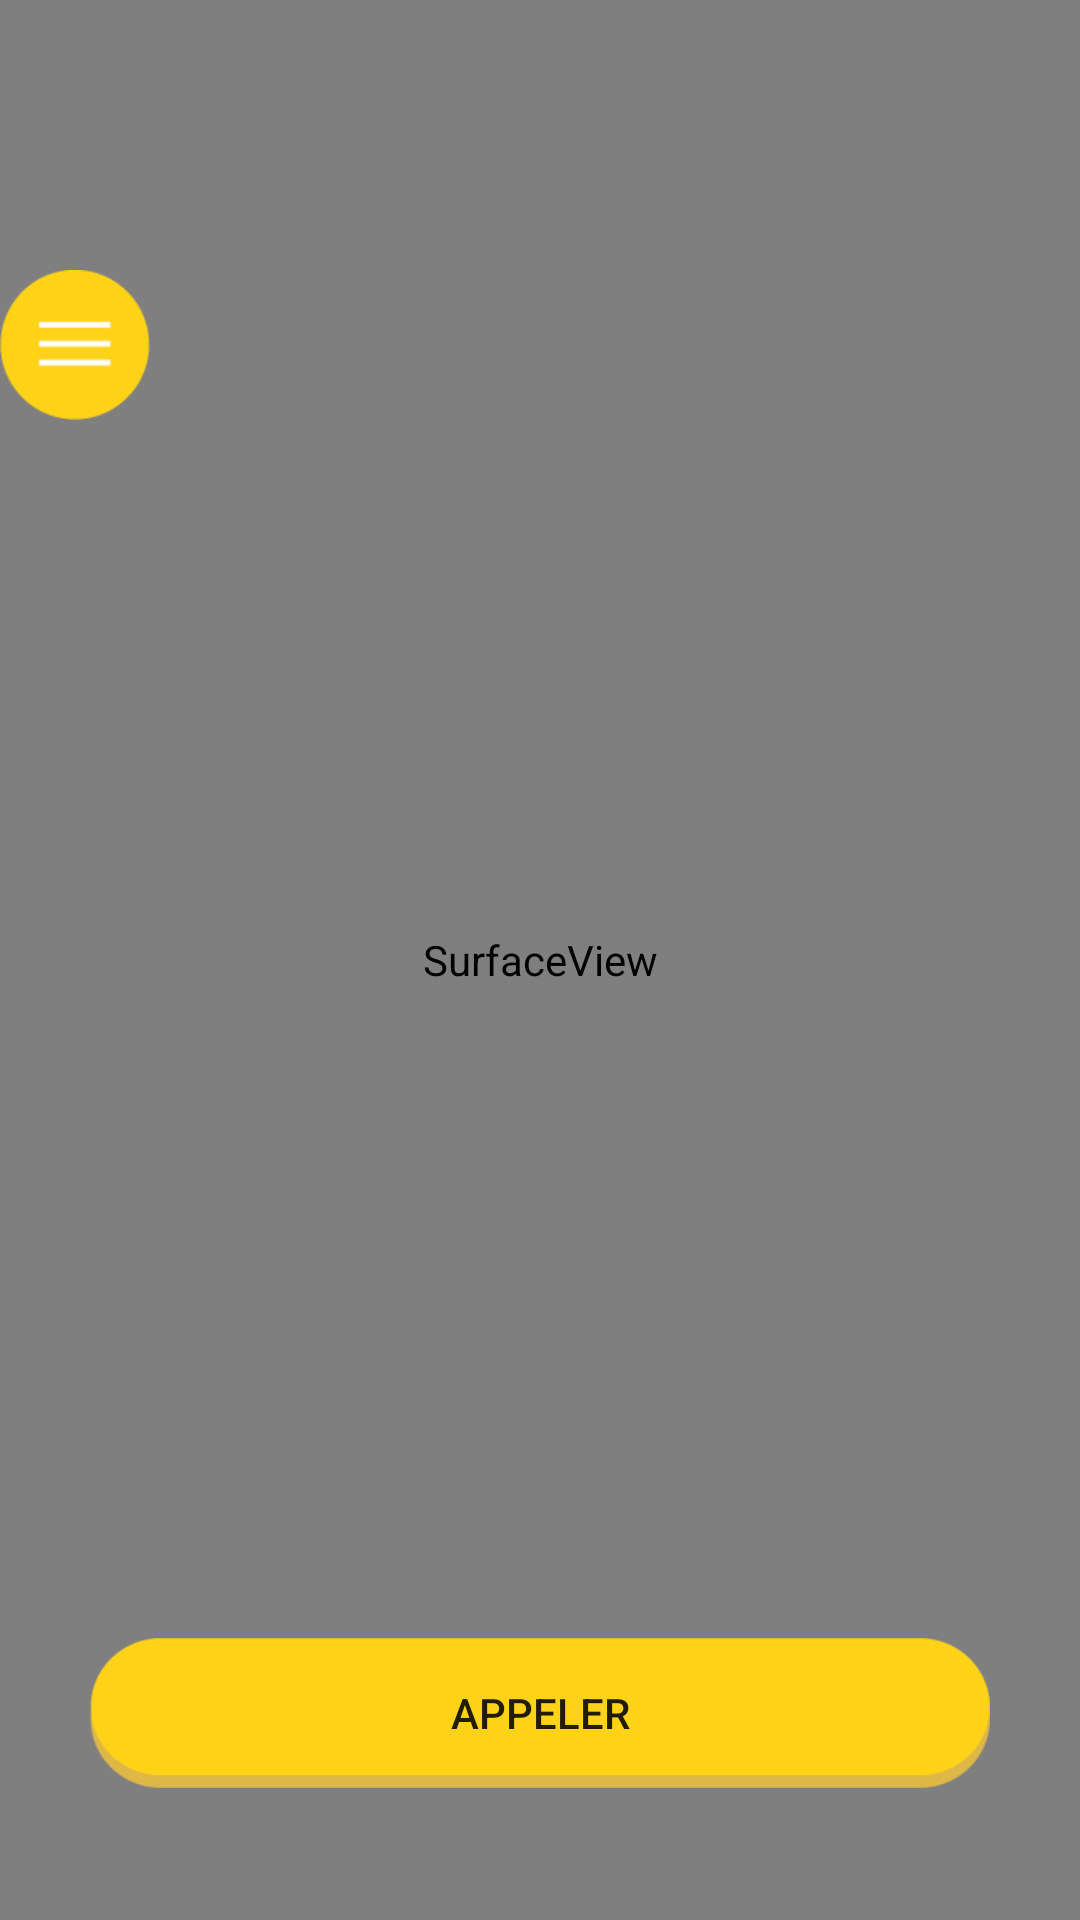

Point at icon controls on the screen. Image size 1080 x 1920, points as (x=x, y=y).
menuappel: (x=75, y=345)
